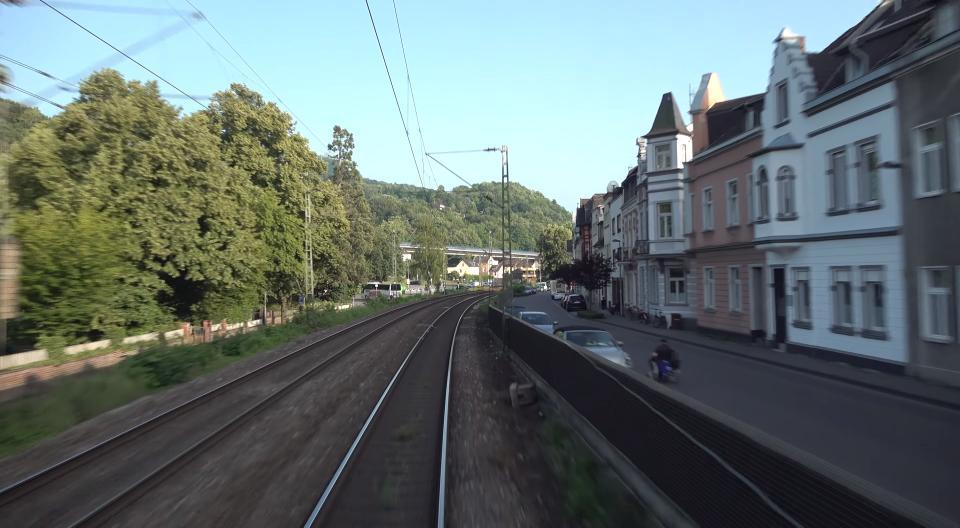Plant: (540, 420, 606, 523), (378, 486, 401, 511), (393, 423, 418, 441)
